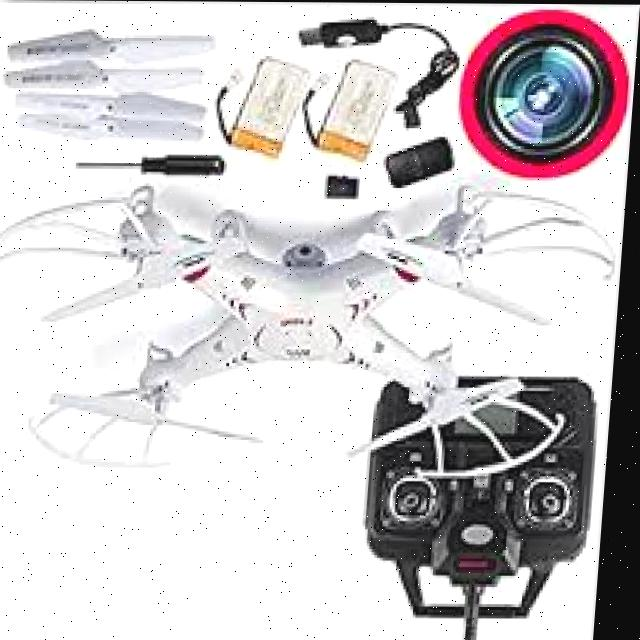drone: (0, 159, 606, 483)
